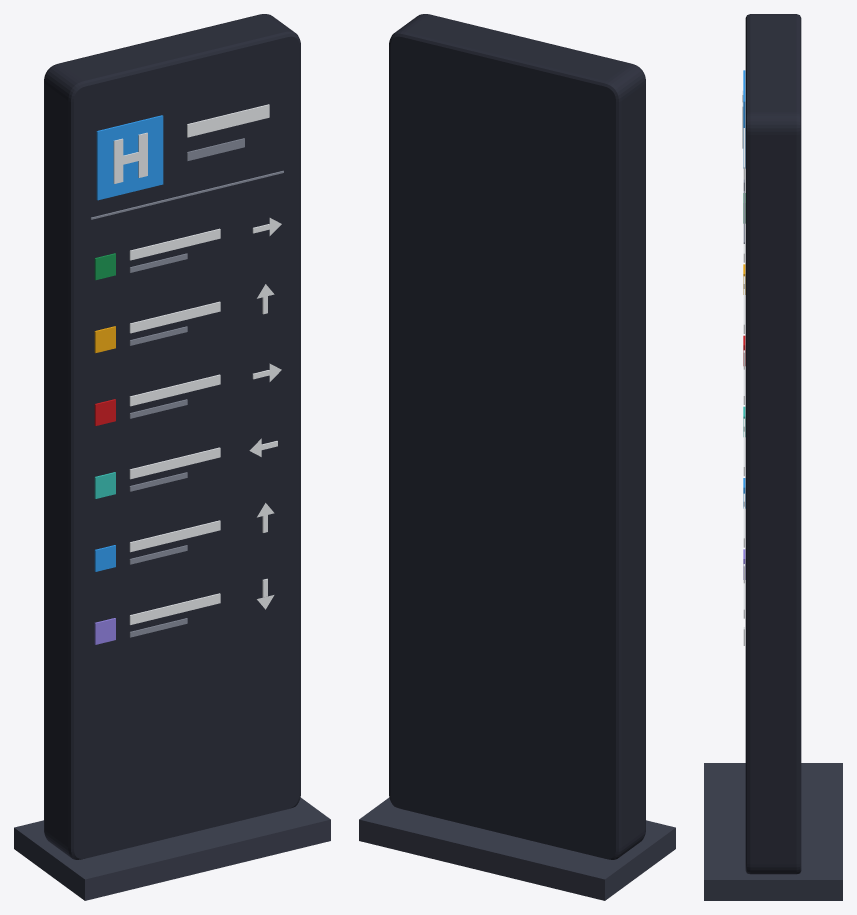
The model's file is hos-020.glb.
3 renders of one model, left to right at view 1: azimuth 30°, elevation 25°; view 2: azimuth 150°, elevation 25°; view 3: azimuth 270°, elevation 25°, orthographic. The views are drawn at different scales.
Visible parts, largest first — view 1: body, plinth, label (×6), logo_tile, title_line_1; view 2: body, plinth; view 3: body, plinth.
Boxes of the visible parts, x1,y1,x2,y2 form: body: [44, 14, 300, 859]; plinth: [14, 797, 330, 900]; label (×6): [129, 228, 220, 624]; logo_tile: [96, 115, 163, 200]; title_line_1: [187, 104, 269, 137]; body: [389, 14, 645, 859]; plinth: [359, 797, 675, 900]; body: [745, 14, 801, 874]; plinth: [704, 763, 842, 900].
Size of the model in its own units: 0.6 by 1.86 by 0.3.
